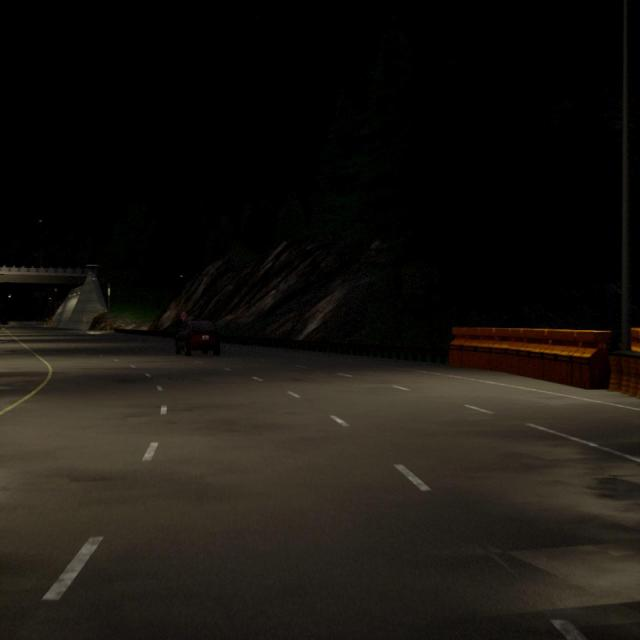Traffic_Signs: (181, 312, 186, 320)
Vehicle: (175, 321, 221, 356)
